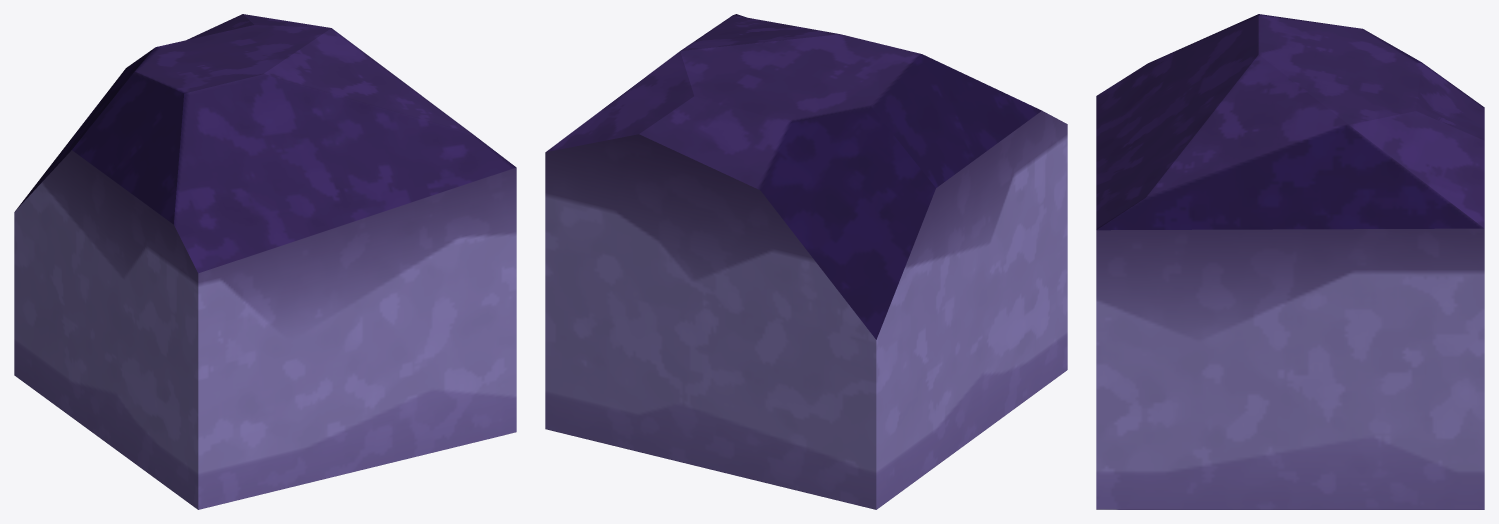
Rendered from Rock_03_002.fbx.
3 views of the same model, side by side, from view 1: azimuth 30°, elevation 25°; view 2: azimuth 150°, elevation 25°; view 3: azimuth 270°, elevation 25° (orthographic). The views are drawn at different scales.
Visible parts, largest first — view 1: Rock_03_002; view 2: Rock_03_002; view 3: Rock_03_002.
Boxes of the visible parts, bbox=[...] form: Rock_03_002: bbox=[14, 14, 516, 509]; Rock_03_002: bbox=[545, 14, 1067, 509]; Rock_03_002: bbox=[1096, 14, 1484, 509].
Size of the model in its own units: 2 by 2.07 by 2.
Materials: 1 (1 with a texture image).
